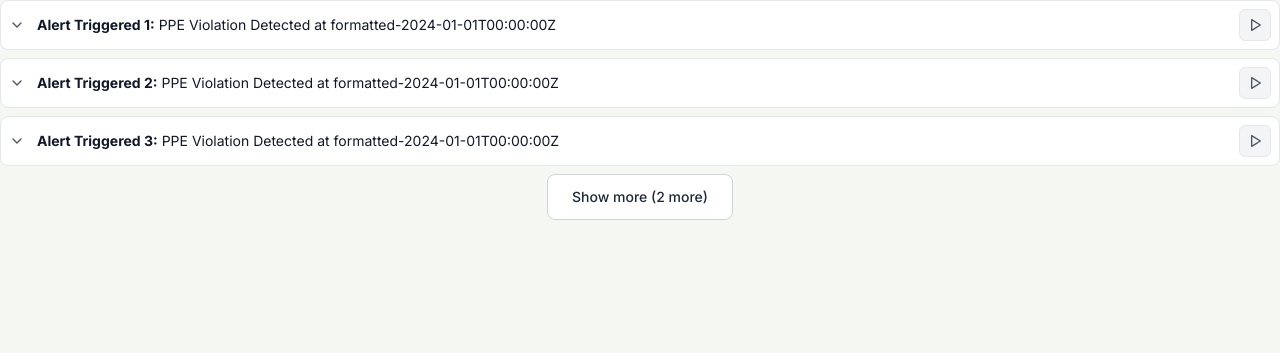
Test case: CustomIncidents › View more / view less › resets to initial count on "Show less" click
The width and height of the screenshot is (1280, 353).
Click the button "Show more (2 more)" at (640, 197), box [547,174,733,220]
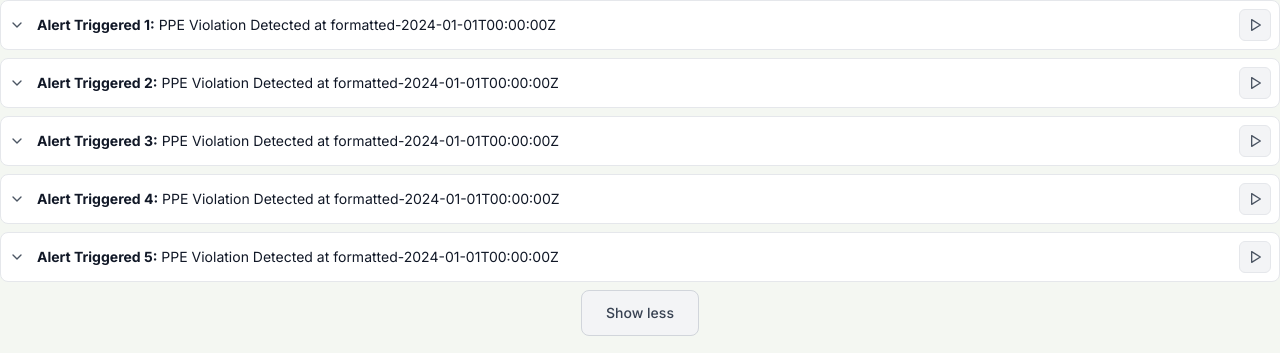
Click the button "Show less" at (640, 313), box [581,290,699,336]
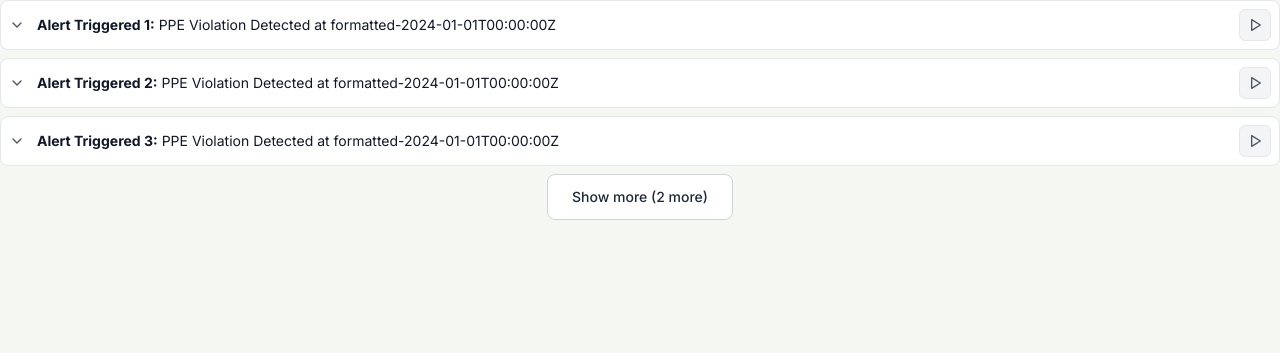
Result: the text "Alert Triggered 1:" is shown 3 times at [37,16,155,33]; [37,74,158,91]; [37,132,158,149]
